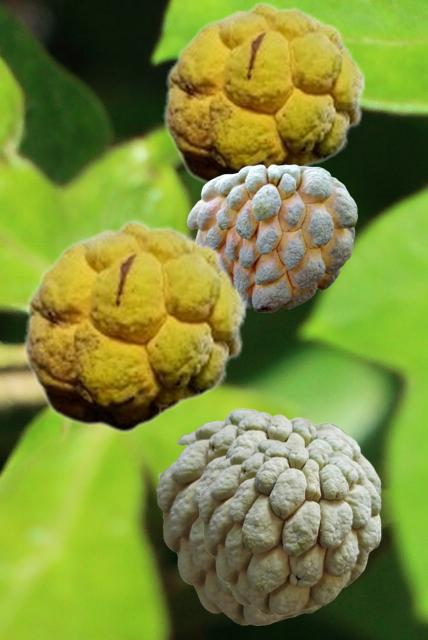atis: (156, 408, 380, 624), (22, 219, 246, 432), (162, 1, 365, 185), (198, 439, 380, 614), (187, 164, 356, 311)
